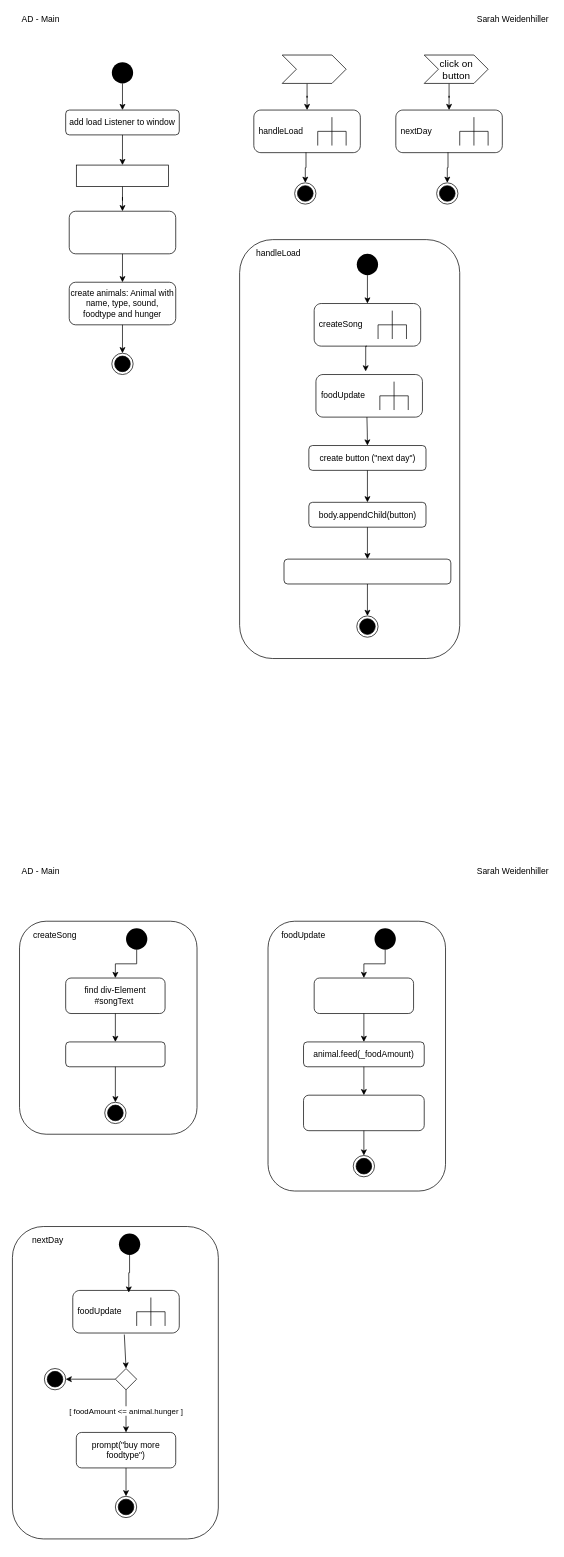
This 564x1557 diagram has some shape labels left out. The centre of each missing label's shape, as x and y in pixels:
animal.song: point (115, 1054)
button.addEventListener("click", nextDay): point (367, 571)
change per innerHTML the food amounts to the new amounts: point (363, 1112)
create a div-Element and write food types and amount in it per innerHTML: point (122, 232)
define food types and amount: point (122, 175)
find div-Element #foodType: point (363, 995)
load: point (314, 68)
